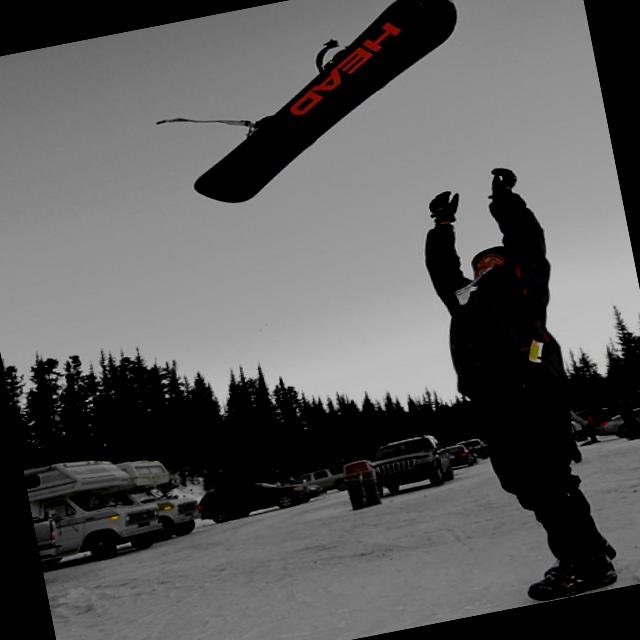Vehicle: (23, 444, 171, 574), (24, 447, 169, 571), (114, 445, 208, 546), (196, 470, 316, 528), (366, 428, 458, 499), (366, 430, 456, 498), (292, 465, 348, 499), (592, 404, 640, 442), (455, 436, 490, 464), (445, 442, 479, 470)
